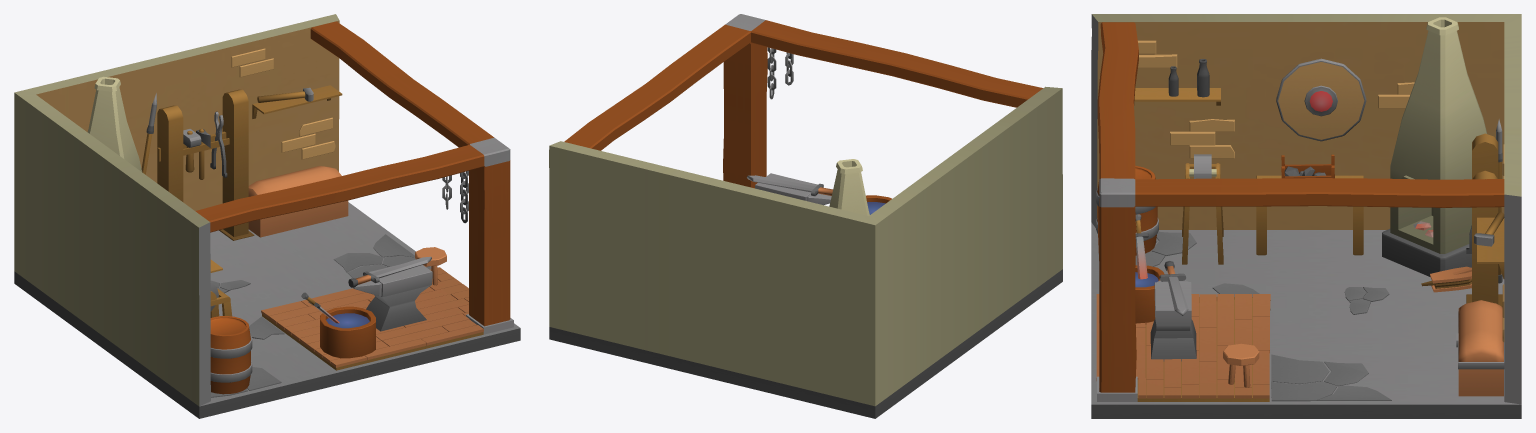
3 renders of one model, left to right at view 1: azimuth 30°, elevation 25°; view 2: azimuth 150°, elevation 25°; view 3: azimuth 270°, elevation 25°, orthographic. The views are drawn at different scales.
Parts seen in each view (by area): view 1: décors, Rack, Tonneau, Enclume, Coffre, Forge, cuve, étagere1, Plancher2, épee, pCube77, Tabouret (+9 smaller); view 2: décors, Forge, Enclume, épee; view 3: décors, Forge, Bouclier, Coffre, Enclume, Rack, Meule, pCube75, Table, Tonneau, pCube76, cuve (+30 smaller).
Part boxes in pixels (<box>): décors: <box>14,14,520,418</box>; Rack: <box>157,89,254,240</box>; Tonneau: <box>210,316,252,394</box>; Enclume: <box>353,264,432,331</box>; Coffre: <box>248,166,348,237</box>; Forge: <box>87,76,142,171</box>; cuve: <box>320,306,375,358</box>; étagere1: <box>252,85,342,118</box>; Plancher2: <box>376,313,469,340</box>; épee: <box>348,256,431,287</box>; pCube77: <box>334,253,383,272</box>; Tabouret: <box>415,247,446,285</box>; décors: <box>549,14,1062,418</box>; Forge: <box>829,159,869,215</box>; Enclume: <box>755,173,831,205</box>; épee: <box>747,175,832,196</box>; décors: <box>1091,14,1521,418</box>; Forge: <box>1382,17,1486,276</box>; Bouclier: <box>1276,58,1366,141</box>; Coffre: <box>1456,300,1504,396</box>; Enclume: <box>1150,280,1196,361</box>; Rack: <box>1466,133,1502,306</box>; Meule: <box>1182,154,1223,264</box>; pCube75: <box>1271,354,1329,384</box>; Table: <box>1256,175,1363,255</box>; Tonneau: <box>1096,165,1158,255</box>; pCube76: <box>1271,381,1337,401</box>; cuve: <box>1135,265,1164,324</box>.
Size of the model in its own units: 9.54 by 6 by 9.5.
21 materials, 21 textured.
